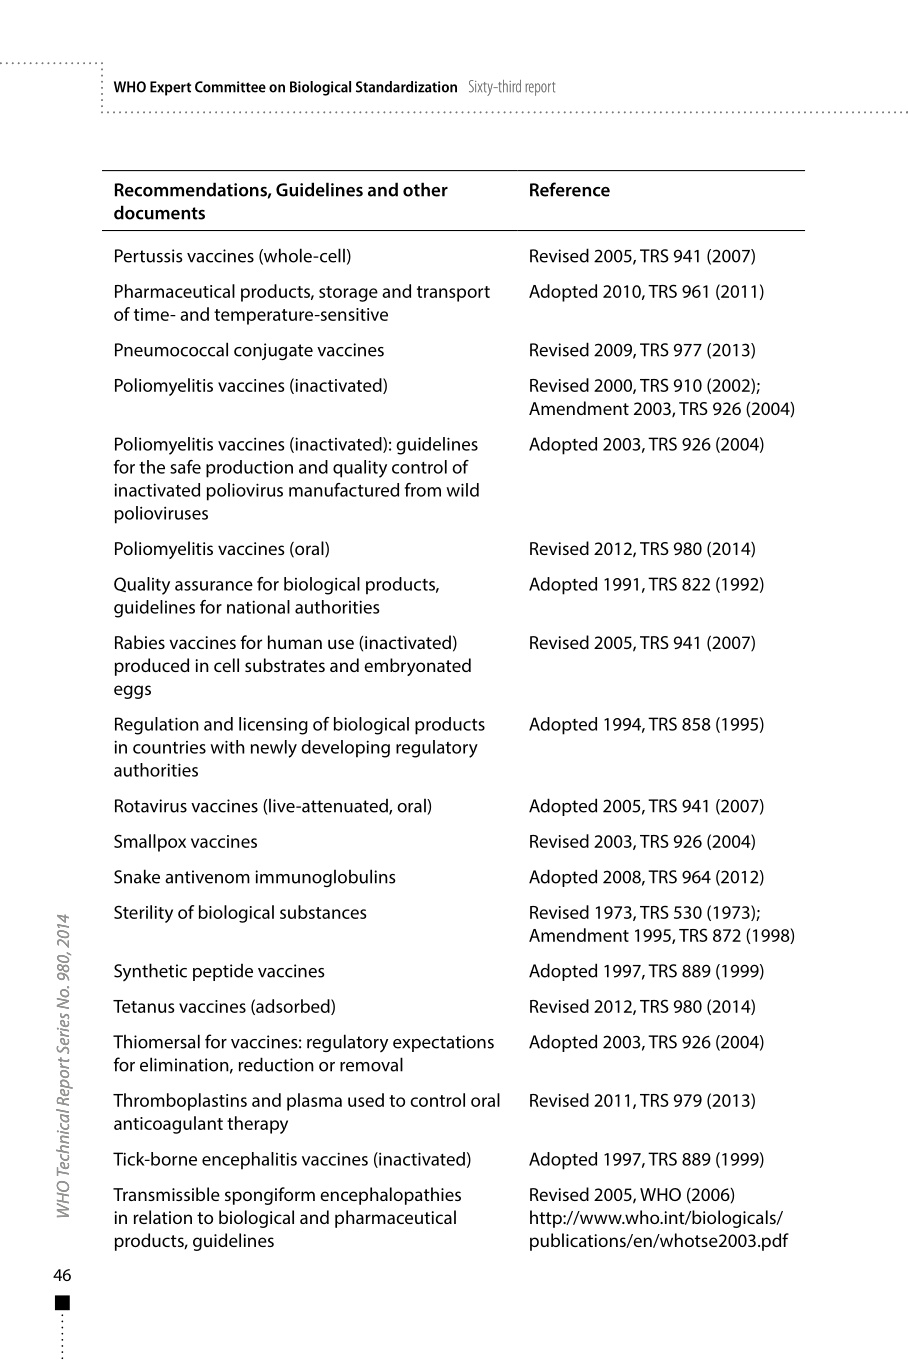partial_lined: (102, 169, 806, 1261)
